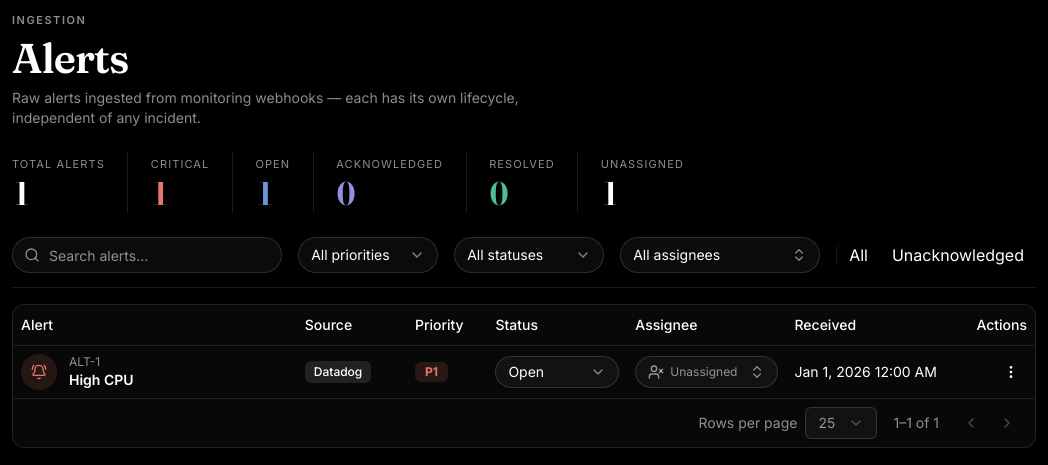
Test case: AlertsPage — loading/error/empty › shows a no-match empty state when filters exclude everything
Type "nonexistent-xyz" into the field with placeholder "Search alerts…" at (147, 255), box [12,237,282,273]
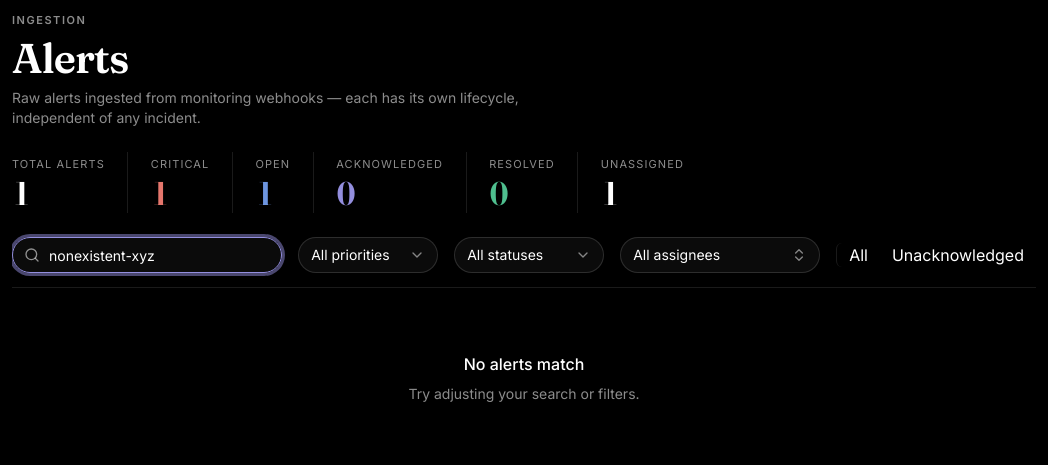
Expected: the text "No alerts match" is shown, [464,352,584,376]
